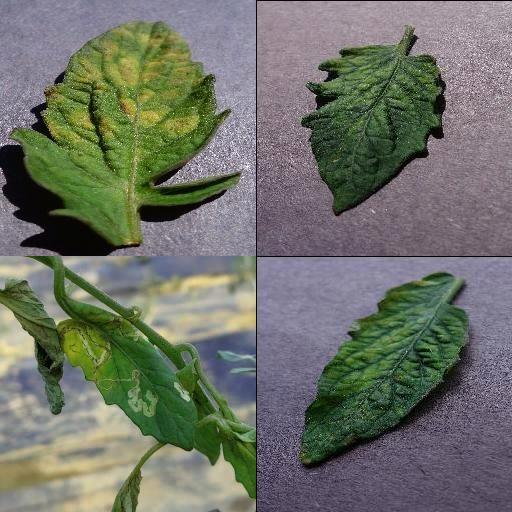Leaf Miner: (57, 298, 199, 452)
Leaf Mold: (14, 18, 242, 244)
Mosaic Virus: (299, 269, 469, 467), (300, 44, 446, 218)
